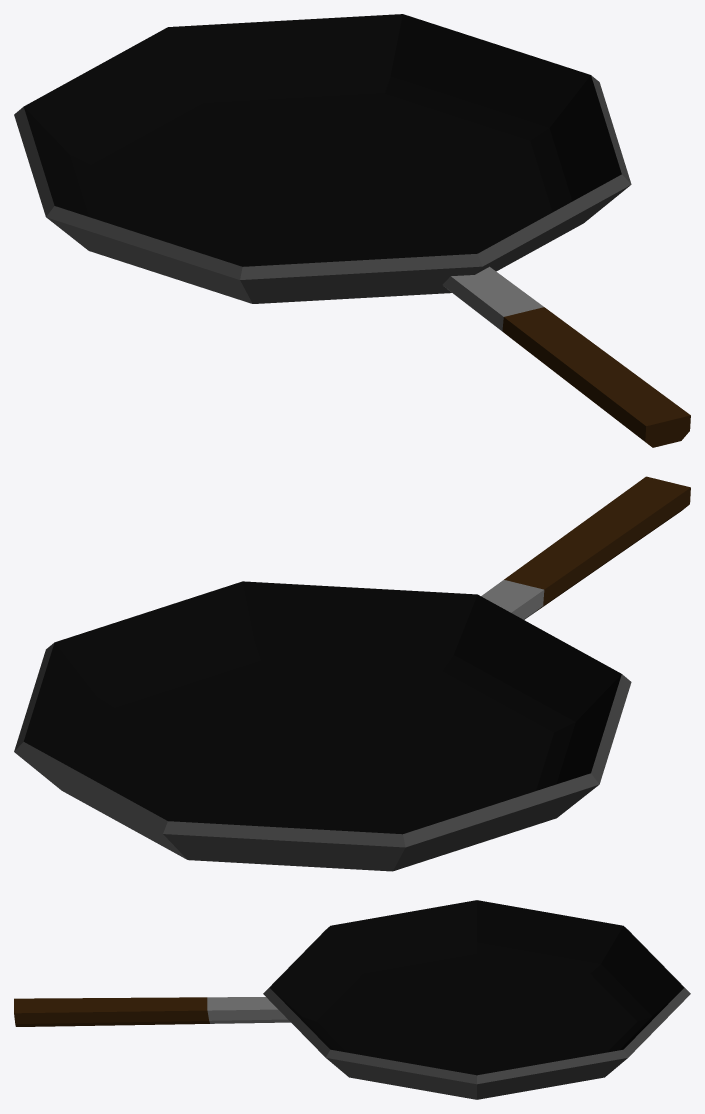
File: Pan.fbx
3 views of the same model, one above another, from view 1: azimuth 30°, elevation 25°; view 2: azimuth 150°, elevation 25°; view 3: azimuth 270°, elevation 25° (orthographic). The views are drawn at different scales.
Parts seen in each view (by area): view 1: Pan; view 2: Pan; view 3: Pan.
Part boxes in pixels (left/top/right/bottom): Pan: left=14, top=14, right=690, bottom=447; Pan: left=14, top=476, right=690, bottom=871; Pan: left=14, top=900, right=690, bottom=1099.
Bounding box in the file's own units: 67.59 × 7.38 × 107.
